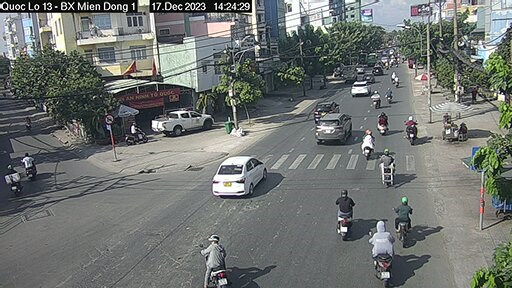car: (211, 154, 267, 200), (150, 109, 215, 136), (317, 114, 352, 145), (348, 78, 369, 99)
motorbike: (201, 240, 237, 288), (328, 189, 360, 240), (374, 224, 393, 282), (119, 122, 151, 145), (4, 162, 25, 196), (397, 199, 412, 244), (17, 152, 37, 181), (380, 148, 395, 185), (404, 116, 420, 144), (361, 130, 375, 157), (378, 113, 392, 134)
